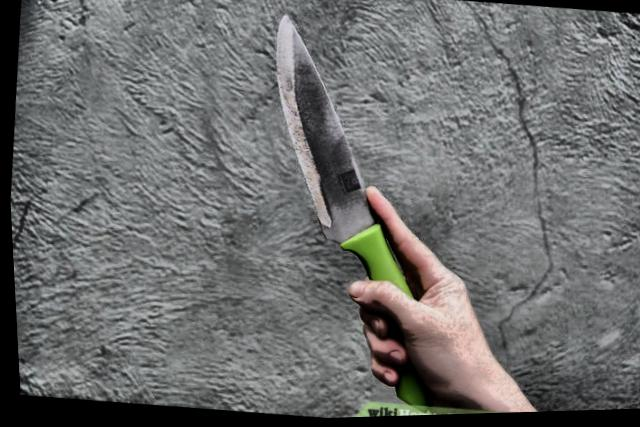knife: (225, 0, 454, 370)
